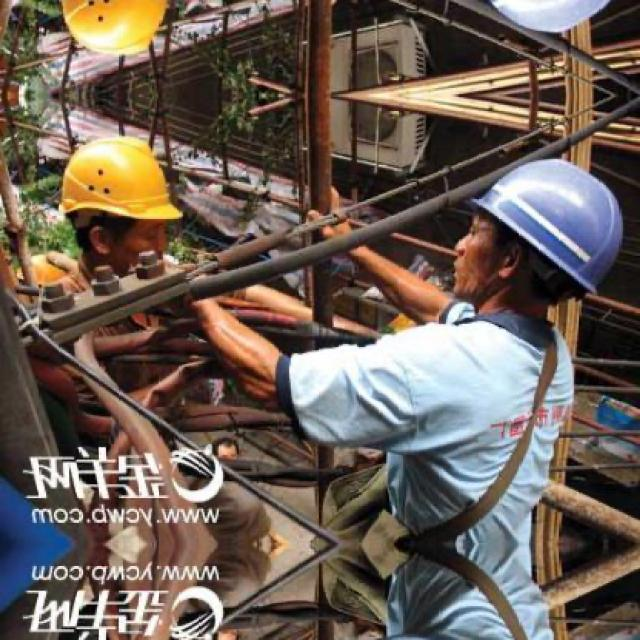helmet: (431, 148, 637, 330), (46, 125, 192, 278), (46, 0, 194, 68), (429, 0, 637, 45)
